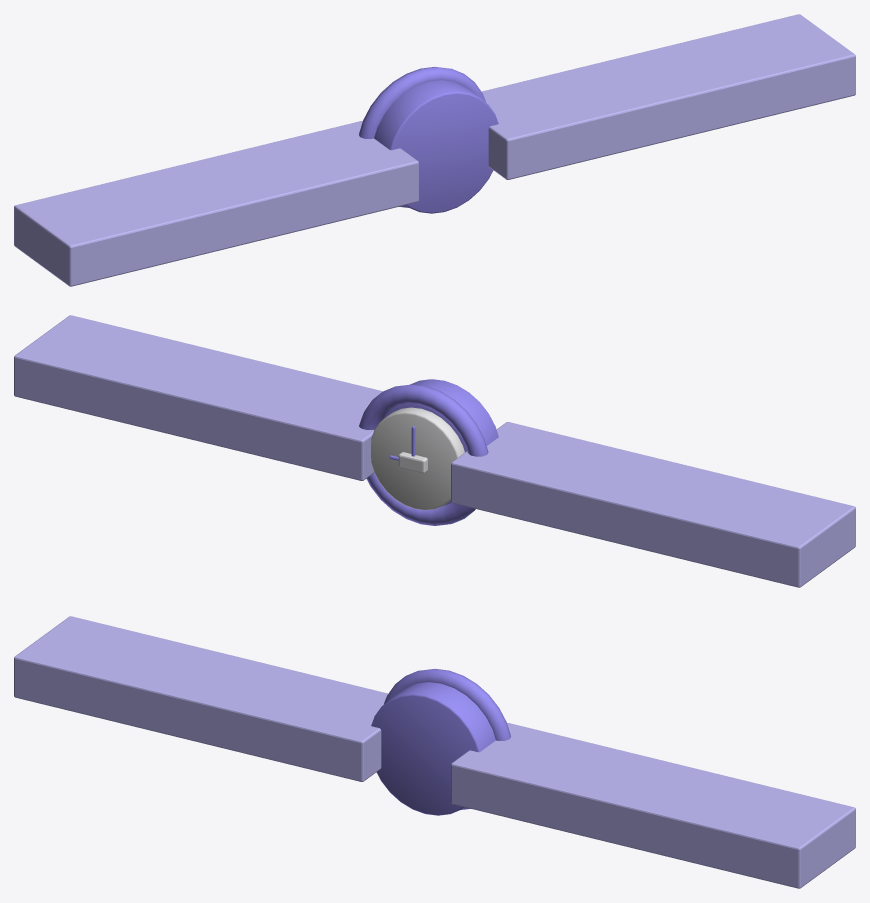
Rendered from VM-ACC-EXT191.glb.
The picture shows the model from 3 angles, top to bottom: view 1: azimuth 30°, elevation 25°; view 2: azimuth 150°, elevation 25°; view 3: azimuth 330°, elevation 25°; orthographic projection.
Visible parts, largest first — view 1: Prenda Rolex Cellini Moonphase; view 2: Prenda Rolex Cellini Moonphase; view 3: Prenda Rolex Cellini Moonphase.
Boxes of the visible parts, <box> form: Prenda Rolex Cellini Moonphase: <box>14,14,855,286</box>; Prenda Rolex Cellini Moonphase: <box>14,315,855,587</box>; Prenda Rolex Cellini Moonphase: <box>14,616,855,888</box>.
Bounding box in the file's own units: 0.3744 × 0.0624 × 0.0468.
